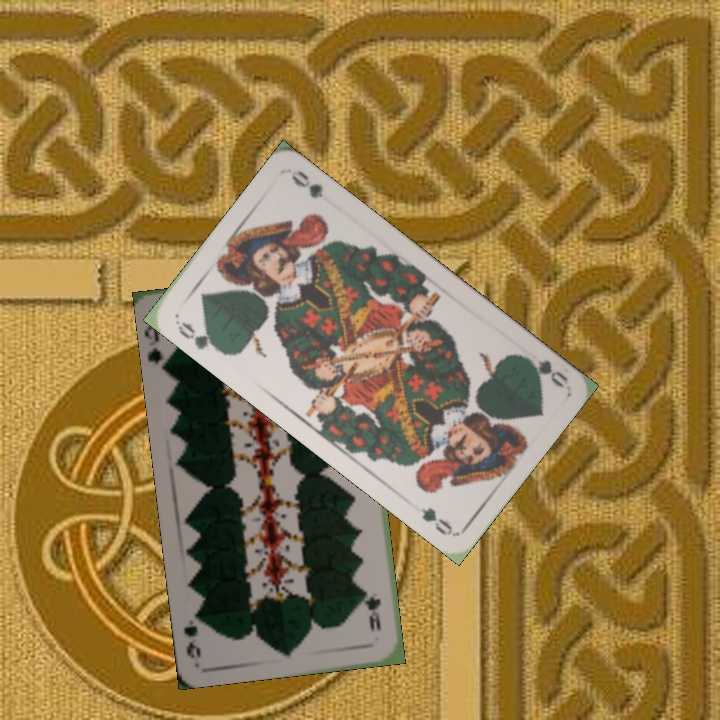G9: (143, 321, 174, 373), (361, 587, 384, 635)
GO: (514, 350, 570, 390), (172, 317, 225, 355)
